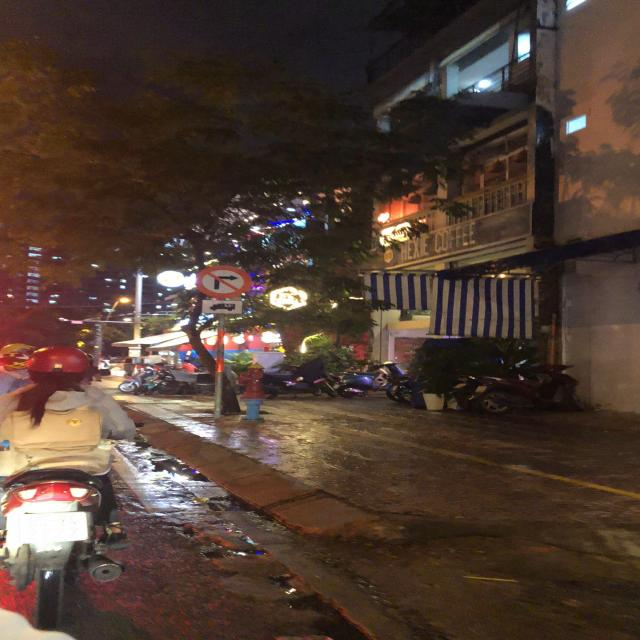Bien bao cam re phai: (193, 262, 254, 300)
